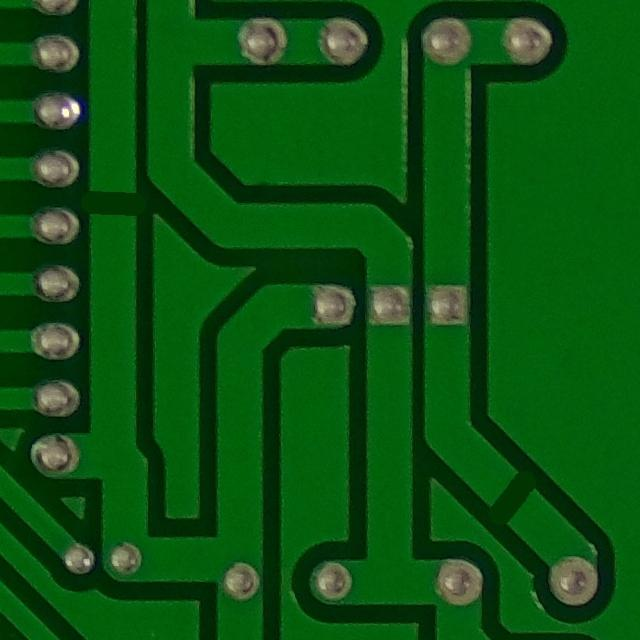open_circuit: (463, 453, 560, 545), (82, 169, 147, 234)
